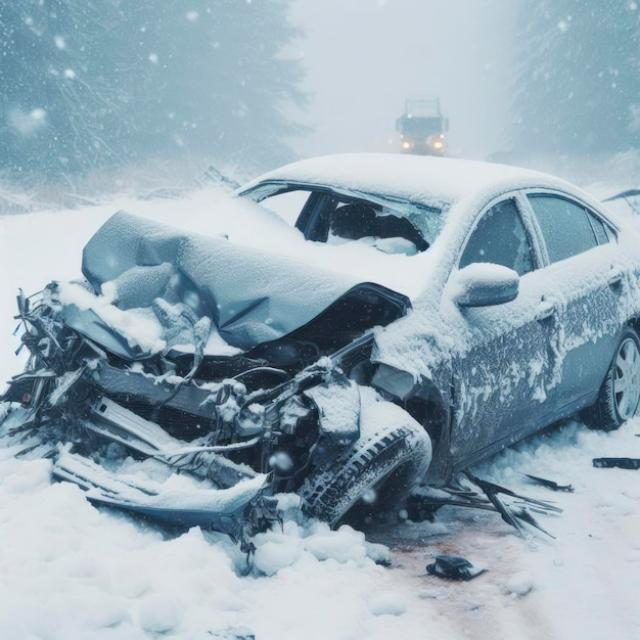Accident: (6, 127, 634, 550)
